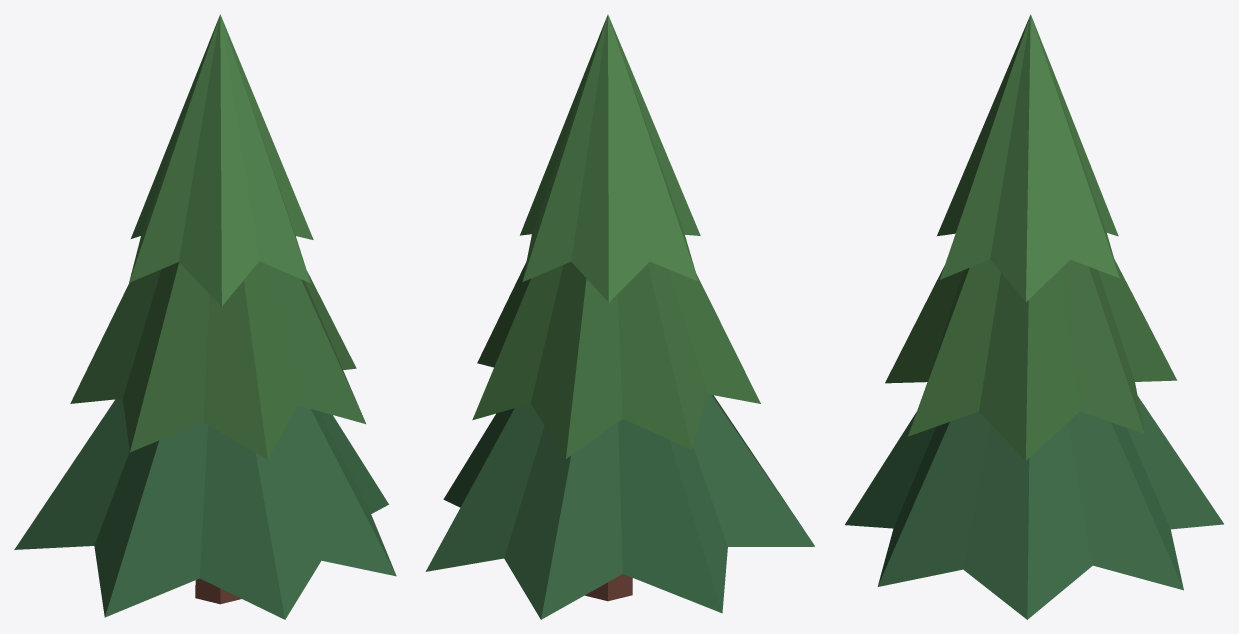
File: pine.glb
3 views of the same model, side by side, from view 1: azimuth 30°, elevation 25°; view 2: azimuth 150°, elevation 25°; view 3: azimuth 270°, elevation 25° (orthographic).
Parts seen in each view (by area): view 1: pine; view 2: pine; view 3: pine.
Part boxes in pixels (<box>): pine: <box>14,14,396,619</box>; pine: <box>425,14,814,619</box>; pine: <box>845,14,1223,619</box>.
Size of the model in its own units: 1.31 by 2.2 by 1.32.
